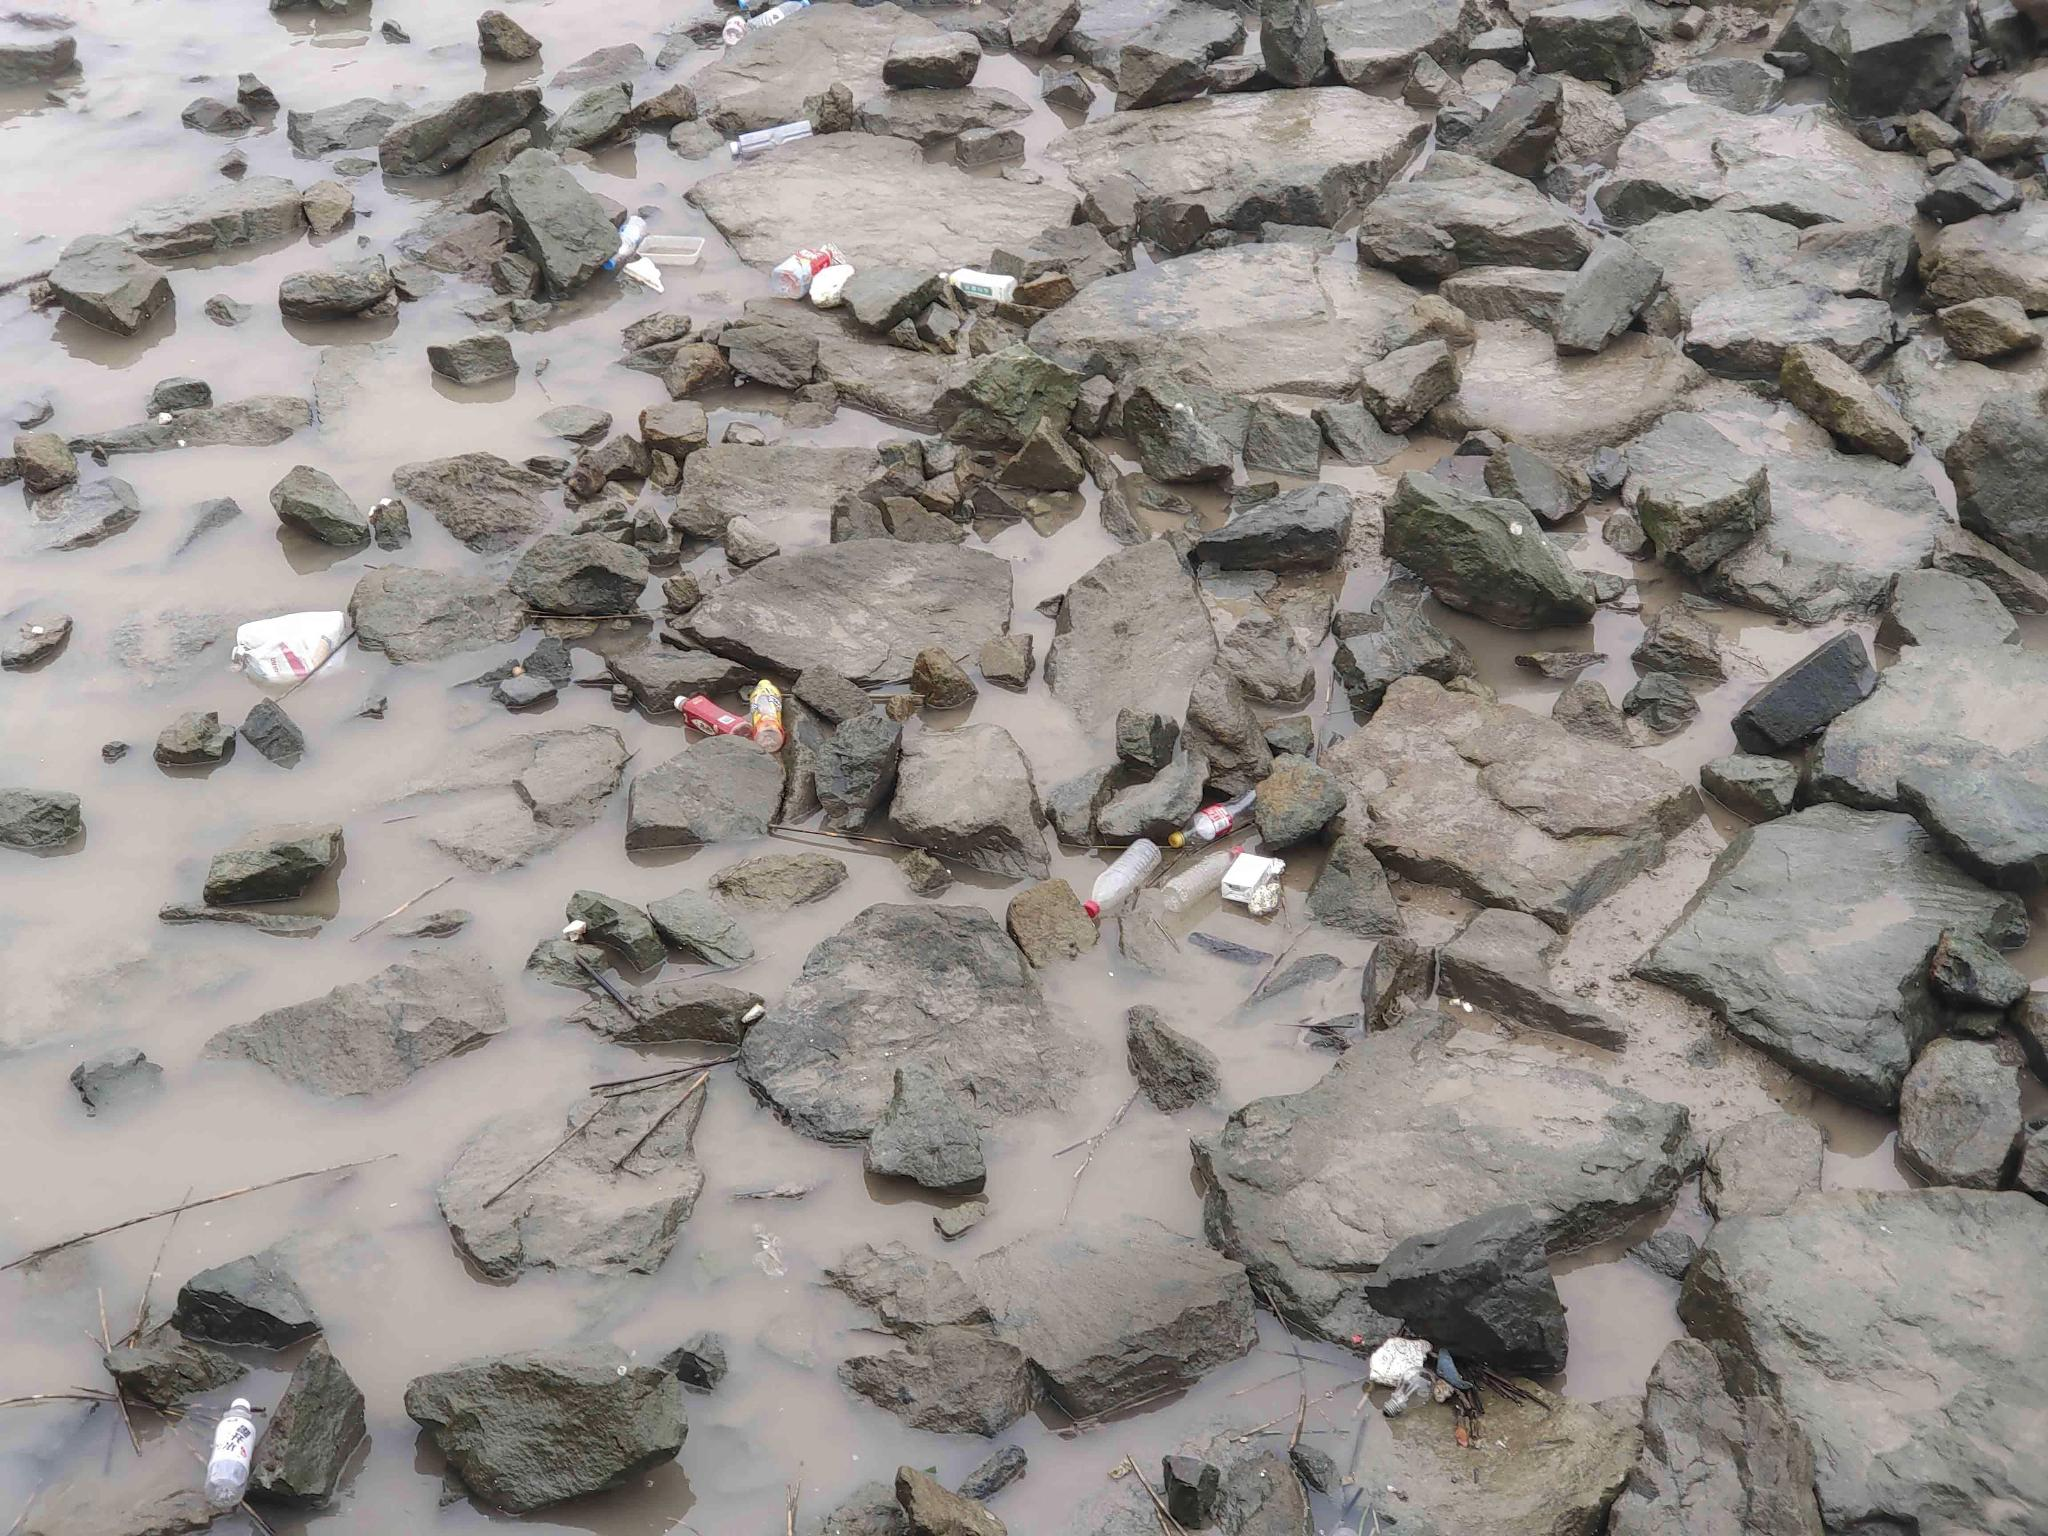Plastic: (1082, 837, 1158, 921), (206, 1400, 253, 1504), (672, 691, 743, 739), (729, 118, 810, 160), (748, 679, 782, 749)
Trash: (642, 231, 703, 266)
